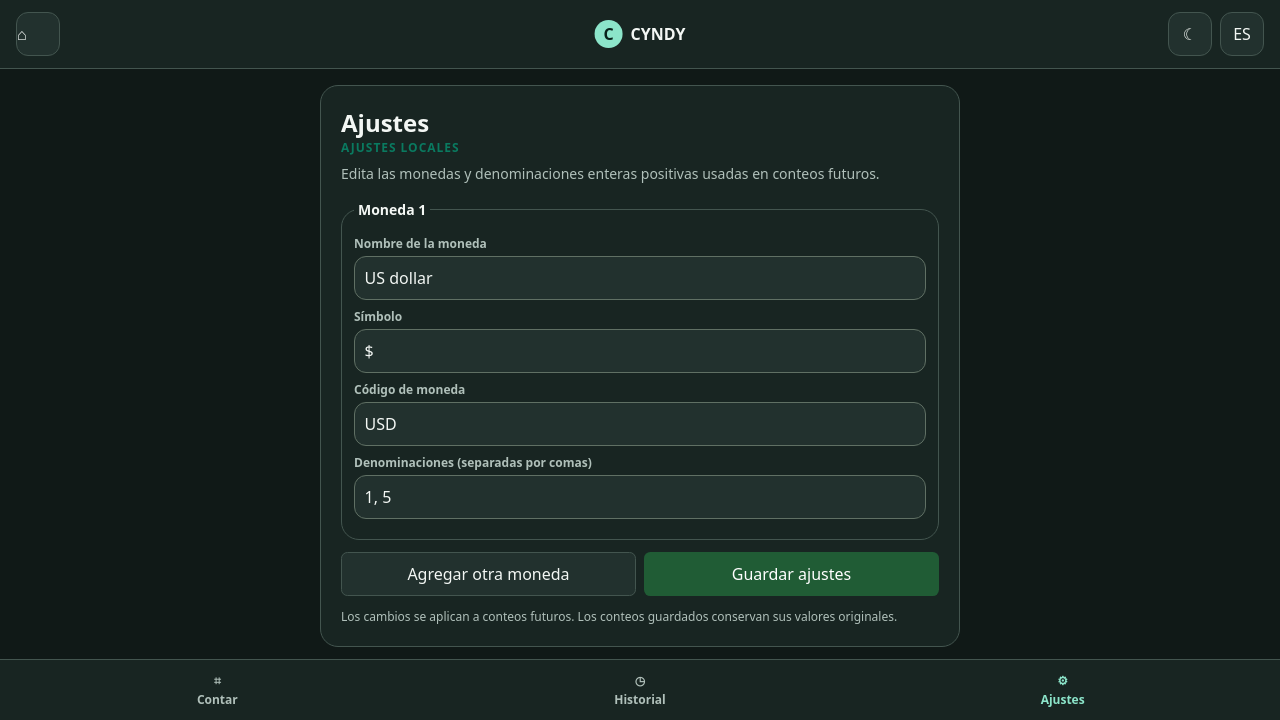
Test case: application shell accessibility › localizes saved-settings status feedback in Spanish
expect the heading "Ajustes" is shown: met, box [341,106,429,139]
Click the button "Guardar ajustes" at point(792, 574), box [644,552,939,596]
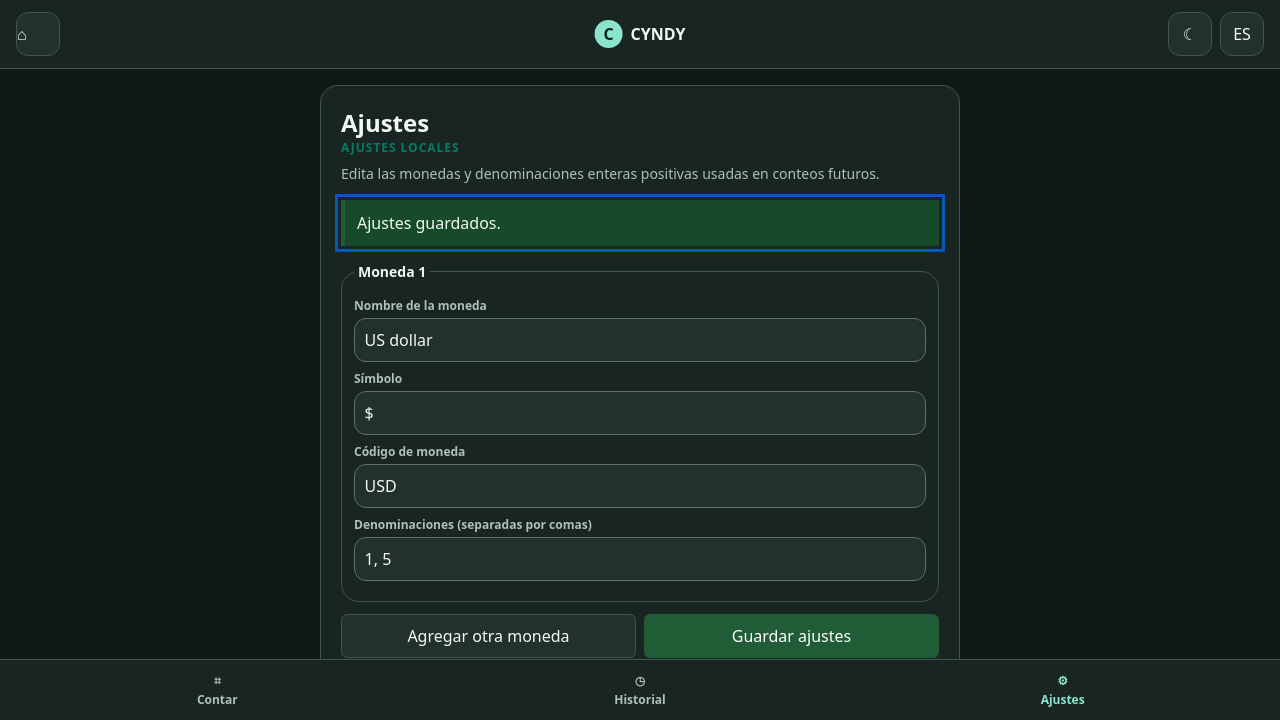
expect the message reads "Ajustes guardados.": met, box [357,212,501,234]
